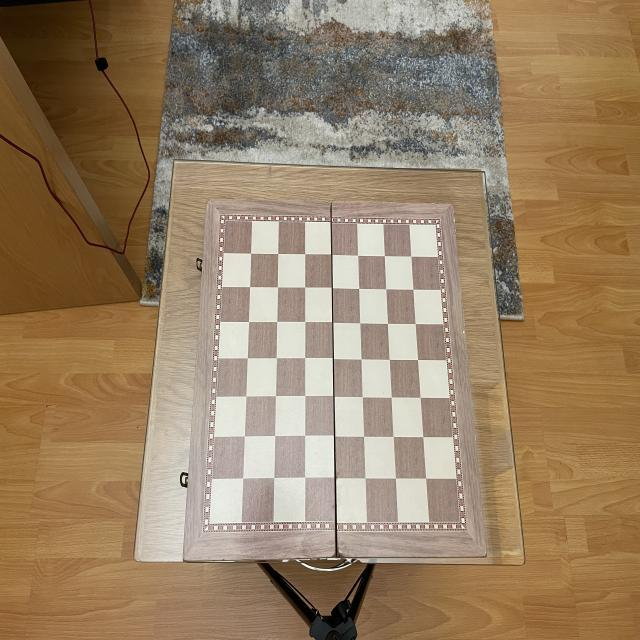corners: (192, 191, 224, 213), (470, 548, 498, 572), (446, 194, 466, 223), (170, 549, 196, 570)
